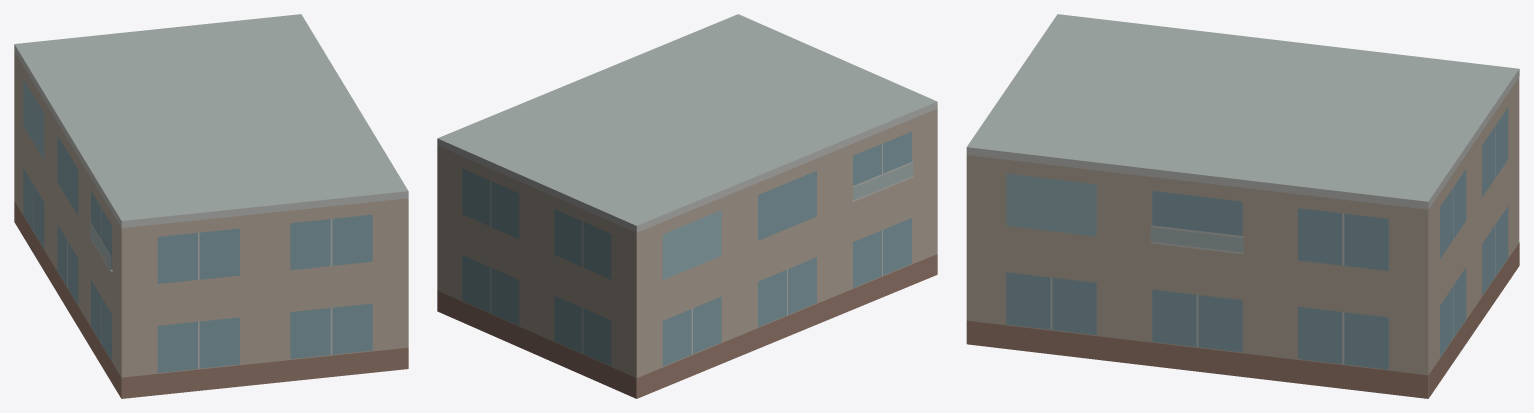
File: survey-upis-32691906.glb
The picture shows the model from 3 angles, left to right: view 1: azimuth 30°, elevation 25°; view 2: azimuth 150°, elevation 25°; view 3: azimuth 270°, elevation 25°; orthographic projection. The views are drawn at different scales.
Parts seen in each view (by area): view 1: survey-upis-32691906.tmp; view 2: survey-upis-32691906.tmp; view 3: survey-upis-32691906.tmp.
Boxes of the visible parts, x1,y1,x2,y2 form: survey-upis-32691906.tmp: (14, 14, 408, 398); survey-upis-32691906.tmp: (437, 14, 937, 398); survey-upis-32691906.tmp: (966, 14, 1519, 398).
Bounding box in the file's own units: 12.47 × 6.1 × 15.52.
